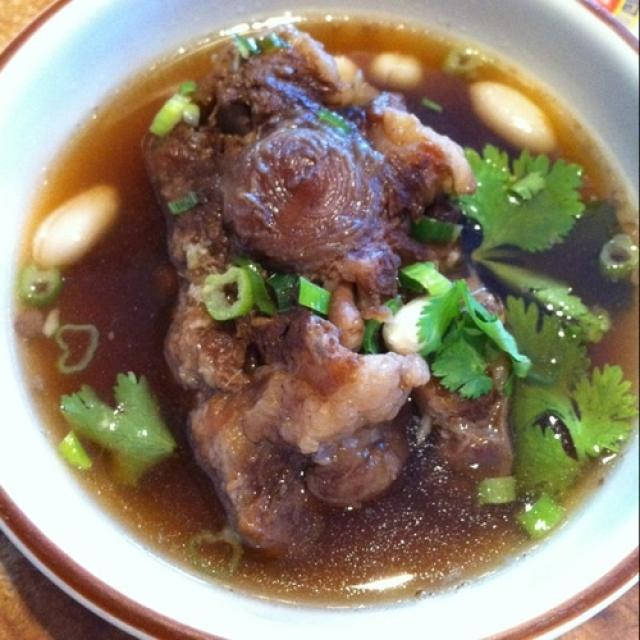汤锅炖物: (23, 23, 627, 621)
